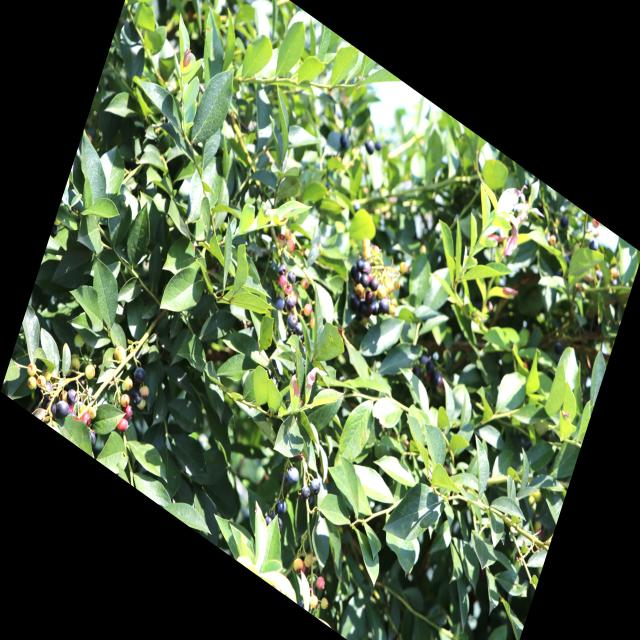blueberry: (52, 395, 71, 423), (38, 376, 54, 404), (273, 494, 290, 520), (62, 383, 80, 407), (285, 464, 302, 489), (132, 363, 148, 387), (308, 475, 323, 499), (128, 384, 143, 408), (378, 296, 394, 318), (297, 482, 312, 502), (274, 469, 288, 490), (285, 311, 299, 331), (284, 267, 298, 287), (272, 292, 285, 313), (284, 294, 296, 315), (368, 275, 380, 294), (369, 298, 381, 316), (359, 271, 371, 289), (293, 320, 305, 338), (360, 260, 371, 276), (352, 269, 362, 283), (278, 264, 288, 278)
blueberry-halfripe: (115, 414, 129, 436), (120, 401, 134, 422), (314, 573, 327, 593), (79, 409, 92, 427), (277, 272, 288, 289), (298, 275, 310, 290), (302, 302, 313, 318), (285, 237, 296, 253), (275, 231, 286, 247), (283, 282, 293, 297), (308, 316, 318, 330)
blueberry-unripe: (112, 342, 128, 366), (290, 554, 306, 576), (83, 360, 98, 382), (134, 393, 148, 414), (136, 381, 150, 400), (69, 352, 82, 372), (73, 331, 86, 351), (302, 551, 315, 570), (35, 372, 48, 391), (307, 592, 320, 610), (122, 374, 134, 393), (119, 391, 131, 410), (25, 360, 38, 377), (50, 368, 62, 386), (26, 374, 38, 391), (319, 596, 330, 612), (87, 404, 98, 420), (42, 367, 52, 382), (78, 402, 87, 416)
